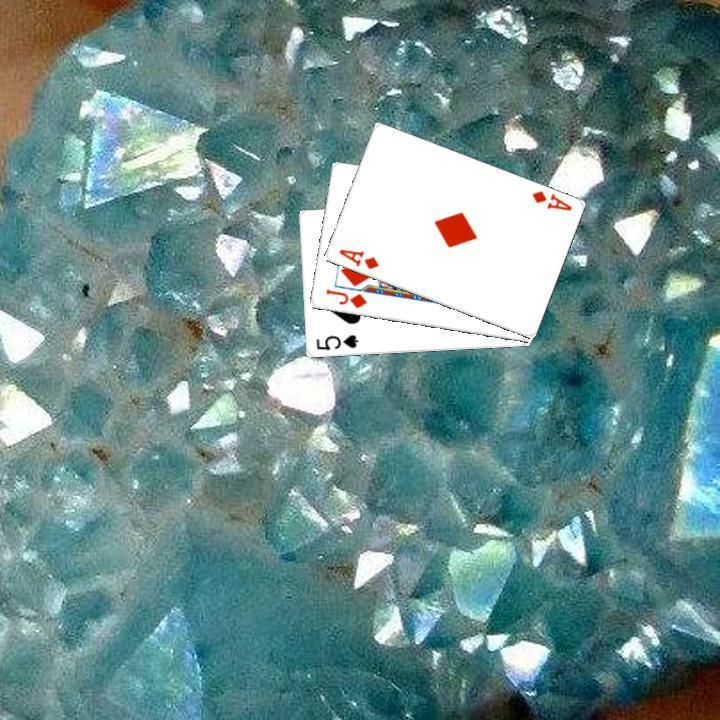5: (311, 331, 360, 352)
A: (334, 245, 380, 272), (527, 186, 573, 213)
J: (321, 285, 369, 311)
